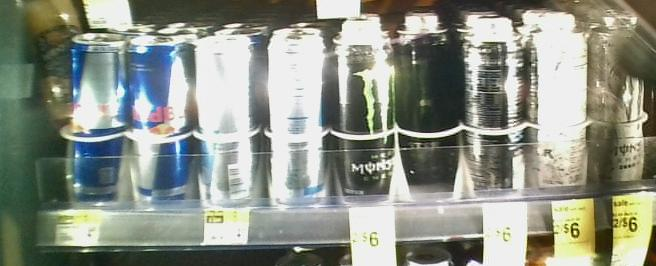bottle: (126, 32, 192, 228), (195, 34, 261, 230), (331, 31, 395, 228), (267, 30, 329, 228), (464, 17, 527, 202), (63, 30, 122, 224), (397, 27, 461, 199), (531, 12, 589, 194), (593, 11, 649, 194)
